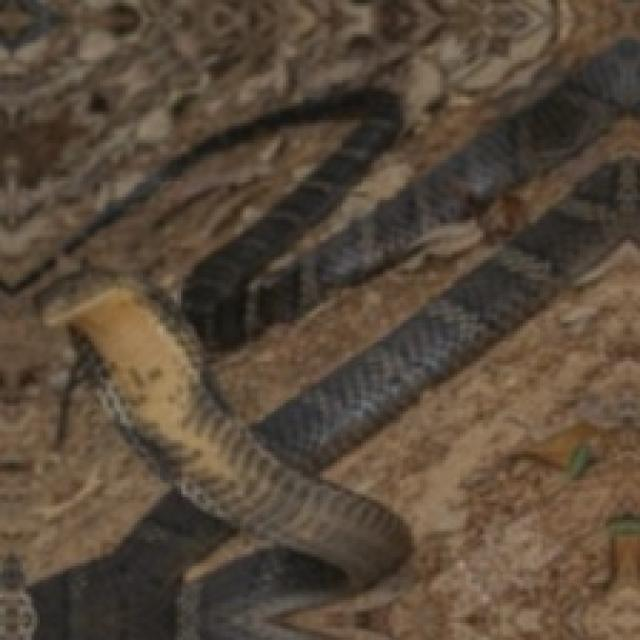king cobra: (71, 9, 637, 637)
